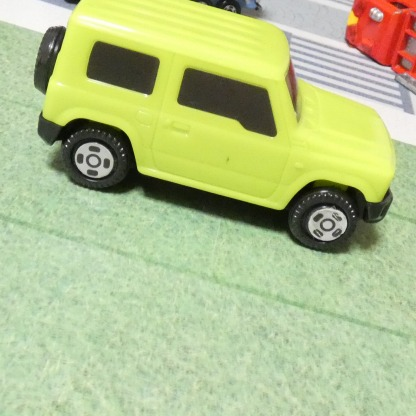car: (29, 1, 400, 256)
